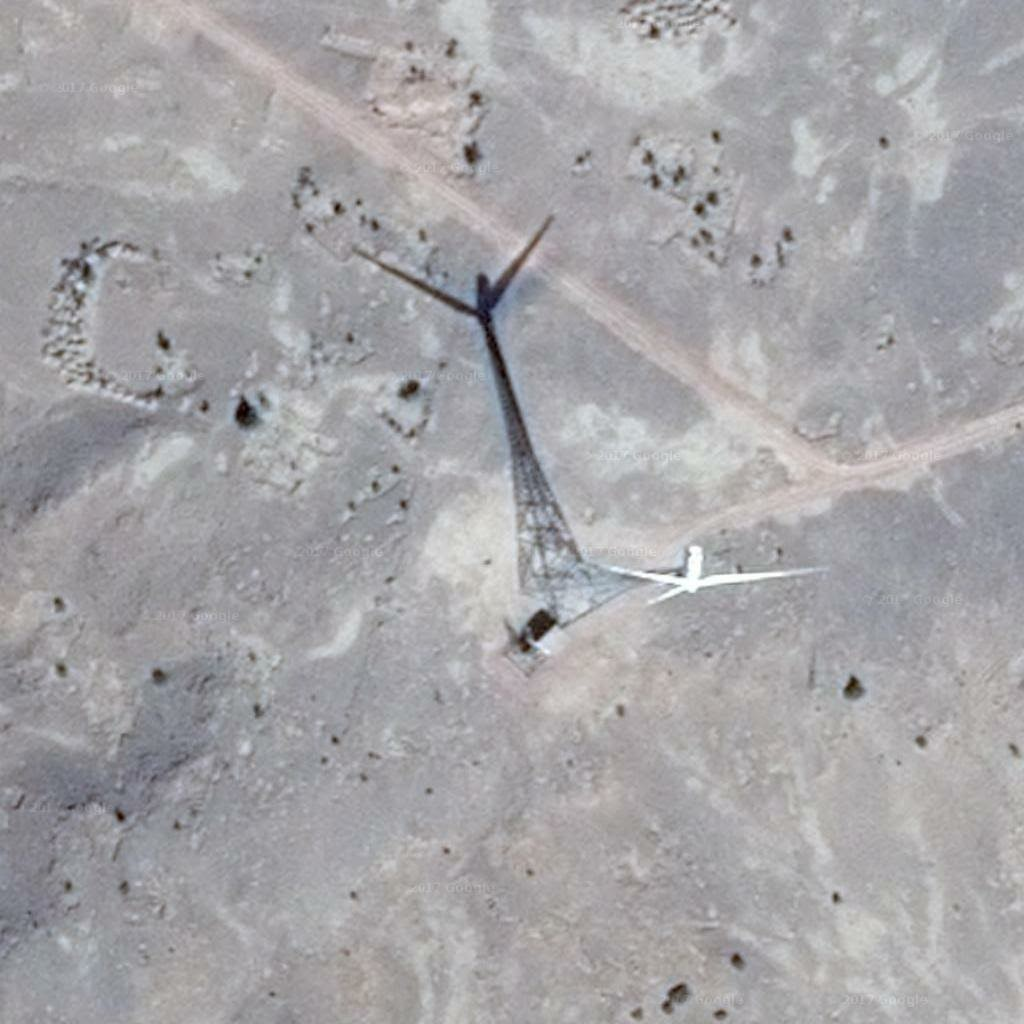Windmill: (359, 221, 609, 609)
